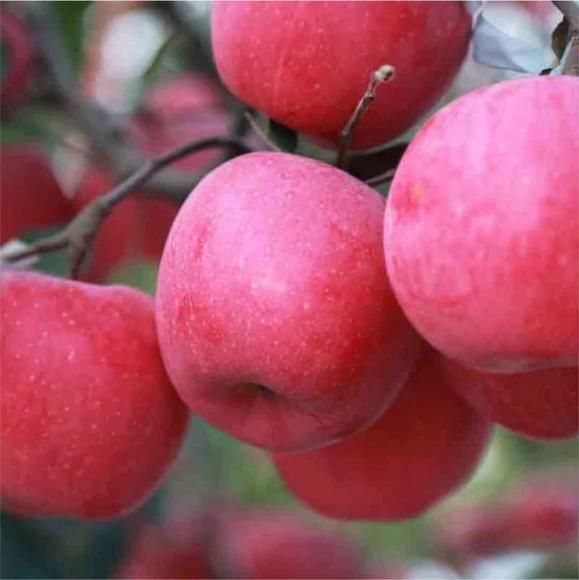apple: (153, 145, 414, 447), (382, 74, 573, 375), (1, 268, 184, 520), (219, 8, 475, 153)
